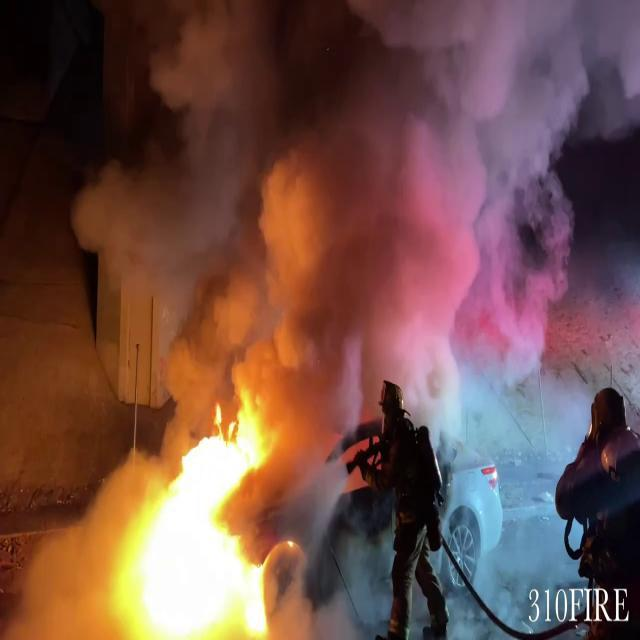Fire: (115, 390, 292, 638)
Smoke: (61, 0, 624, 408)
